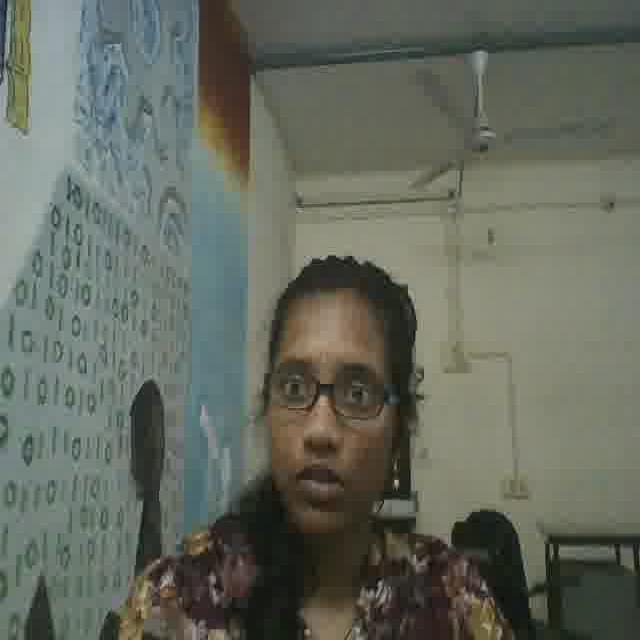Boredom: (262, 300, 390, 535)
